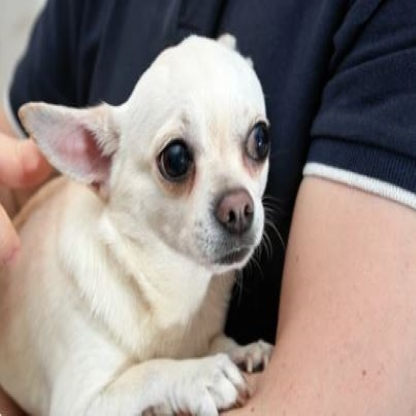chihuahua: (5, 33, 277, 411)
